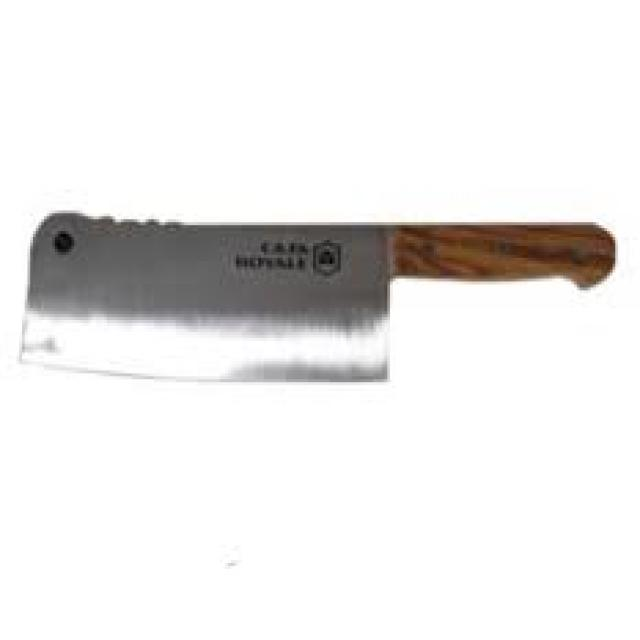weapon: (17, 139, 613, 439)
